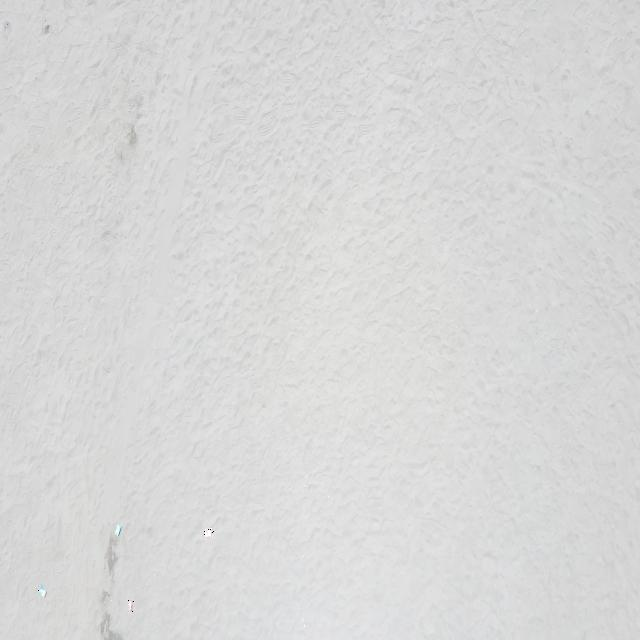retort-pouch: (204, 527, 214, 540), (114, 524, 122, 537), (38, 587, 46, 598), (127, 600, 134, 612)
